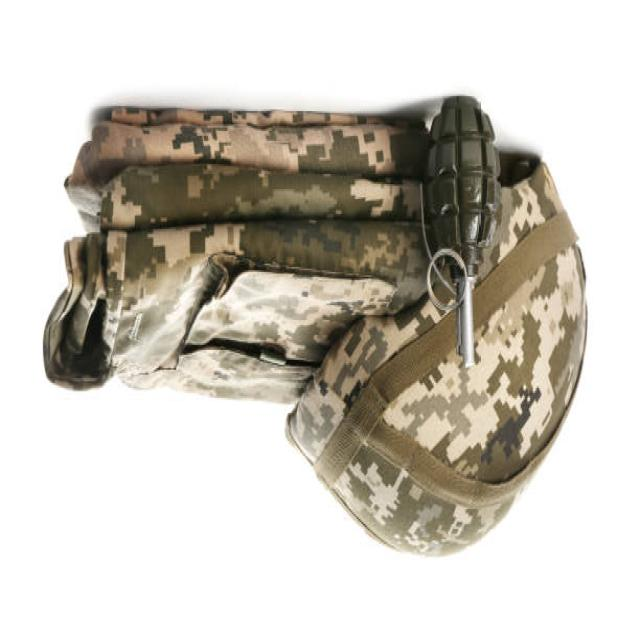grenade: (422, 96, 502, 370)
